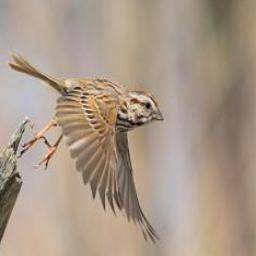Sparrow: (3, 40, 163, 247)
